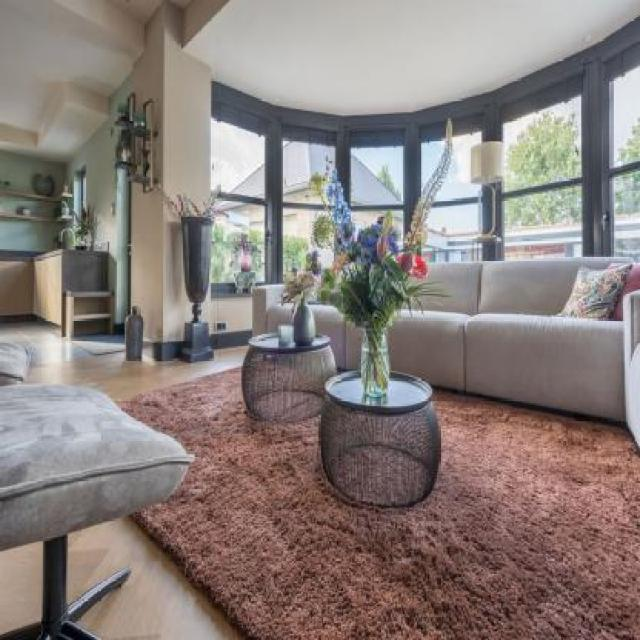floor: (0, 320, 640, 640)
